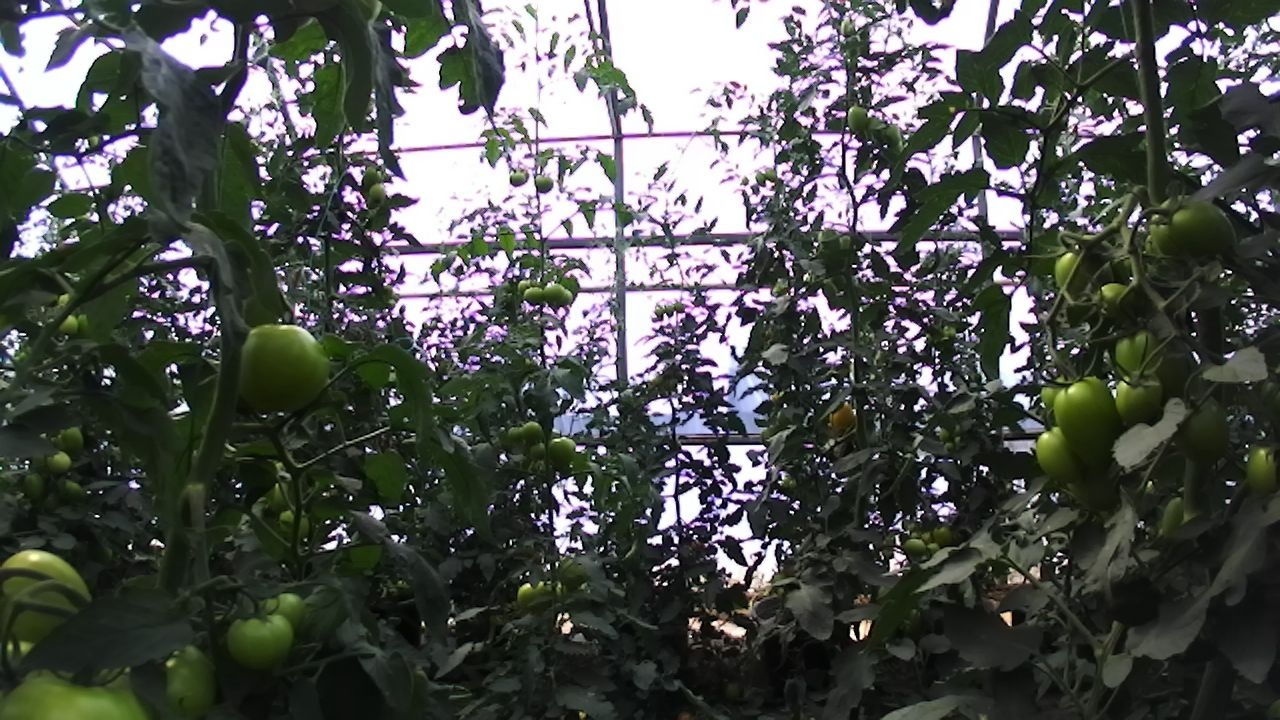tomato: (0, 528, 112, 667), (224, 312, 350, 426), (0, 645, 165, 720), (1043, 363, 1140, 471), (128, 629, 238, 720), (1141, 187, 1253, 271), (215, 604, 308, 679), (1166, 386, 1246, 472), (1038, 233, 1118, 310), (1023, 418, 1099, 487), (1106, 323, 1176, 391), (1109, 364, 1171, 433), (1238, 431, 1280, 505), (1087, 272, 1144, 325), (511, 570, 561, 620), (275, 504, 314, 545), (826, 397, 859, 440), (542, 432, 580, 468), (41, 444, 78, 480), (55, 419, 89, 458), (841, 100, 874, 137), (358, 163, 389, 199), (861, 112, 890, 149), (539, 277, 570, 310), (875, 117, 905, 151), (19, 470, 48, 504), (518, 416, 548, 446), (363, 179, 389, 212), (57, 311, 83, 341), (898, 535, 929, 560), (520, 282, 548, 309), (930, 520, 956, 549), (525, 437, 551, 465), (531, 170, 557, 196), (553, 282, 577, 310), (505, 420, 529, 447), (505, 166, 529, 191), (516, 274, 540, 298)
